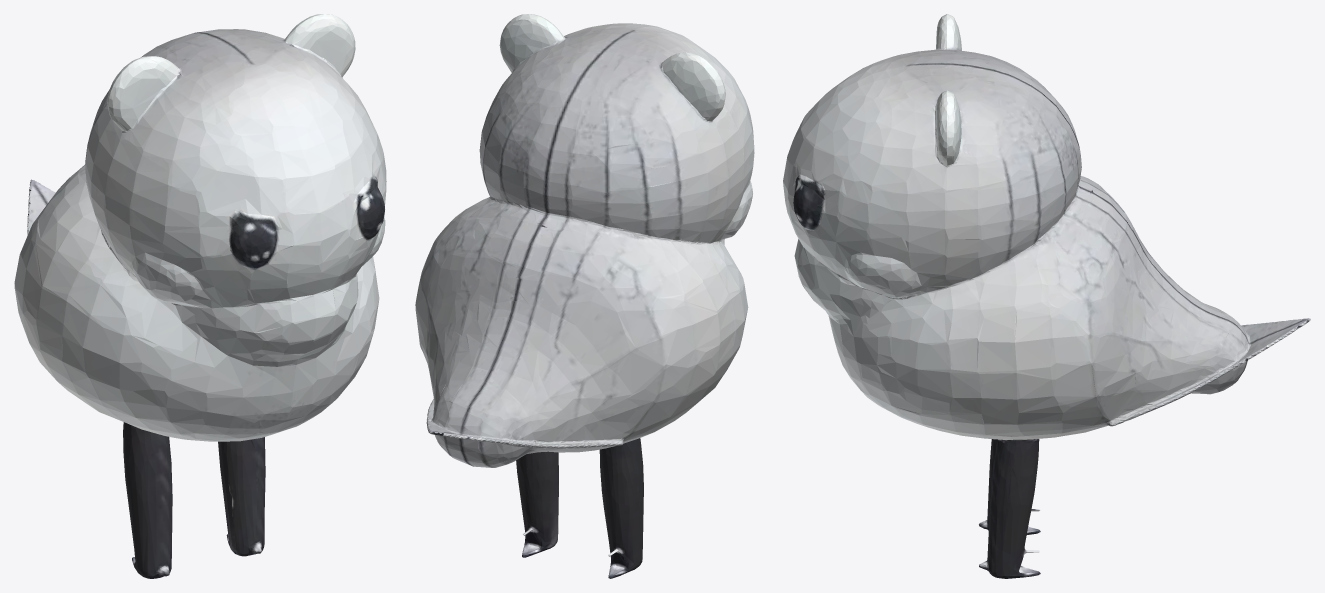
The model's file is creature-077.lod.glb.
The picture shows the model from 3 angles, left to right: view 1: azimuth 30°, elevation 25°; view 2: azimuth 150°, elevation 25°; view 3: azimuth 270°, elevation 25°; orthographic projection. The views are drawn at different scales.
Visible parts, largest first — view 1: tmp568iui8u.ply; view 2: tmp568iui8u.ply; view 3: tmp568iui8u.ply.
Part boxes in pixels (x1,y1,x2,y2): tmp568iui8u.ply: [14, 14, 386, 578]; tmp568iui8u.ply: [415, 14, 754, 578]; tmp568iui8u.ply: [783, 14, 1310, 578].
Bounding box in the file's own units: 1.18 × 1.99 × 1.91.
Materials: 1 (1 with a texture image).
